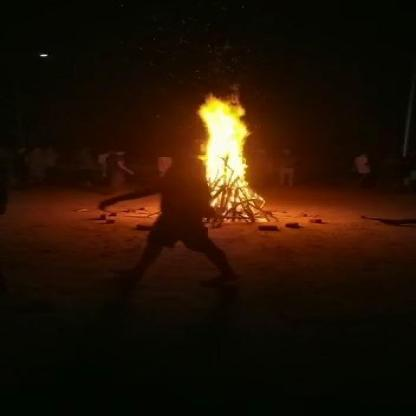fire: (189, 83, 274, 220)
